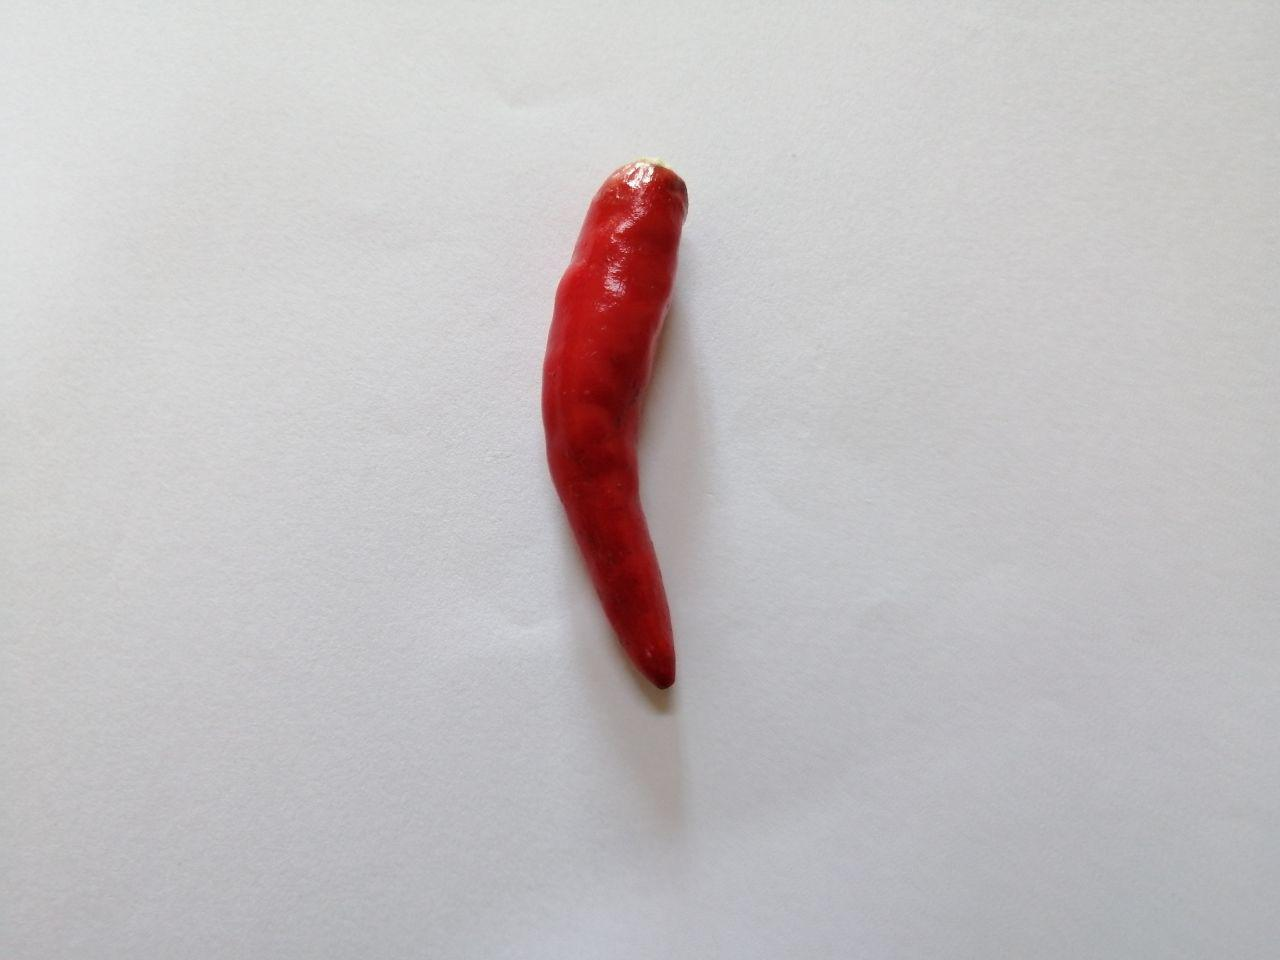lada merah: (533, 136, 713, 712)
